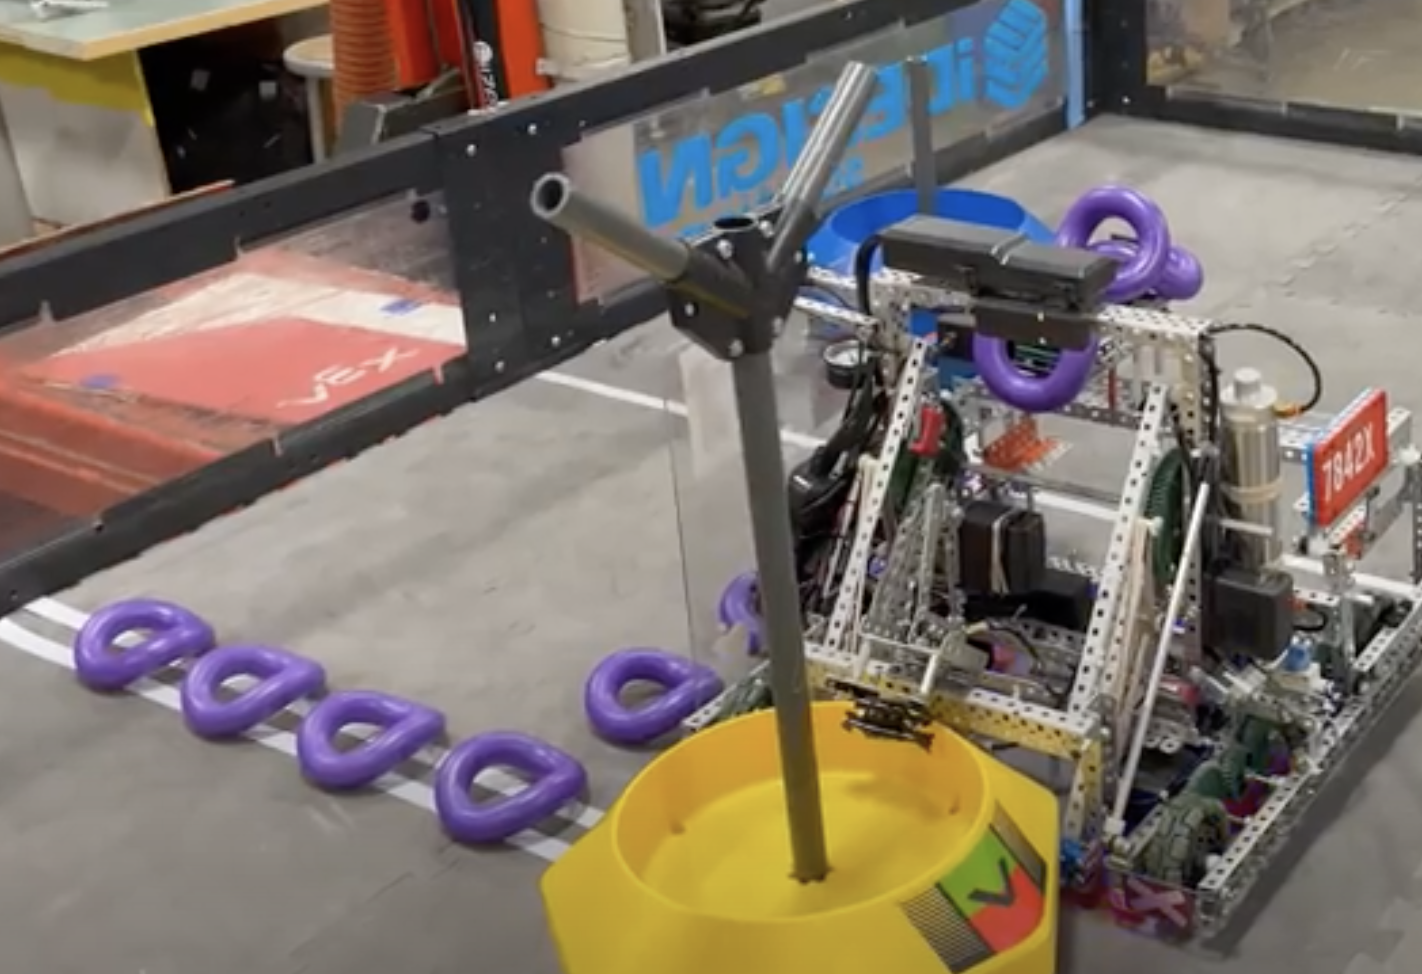ring: (434, 730, 585, 845), (297, 686, 445, 786), (970, 304, 1100, 414), (179, 642, 326, 738), (1051, 184, 1167, 303), (583, 645, 726, 742), (73, 596, 215, 690), (1086, 237, 1204, 304), (717, 571, 804, 651)
